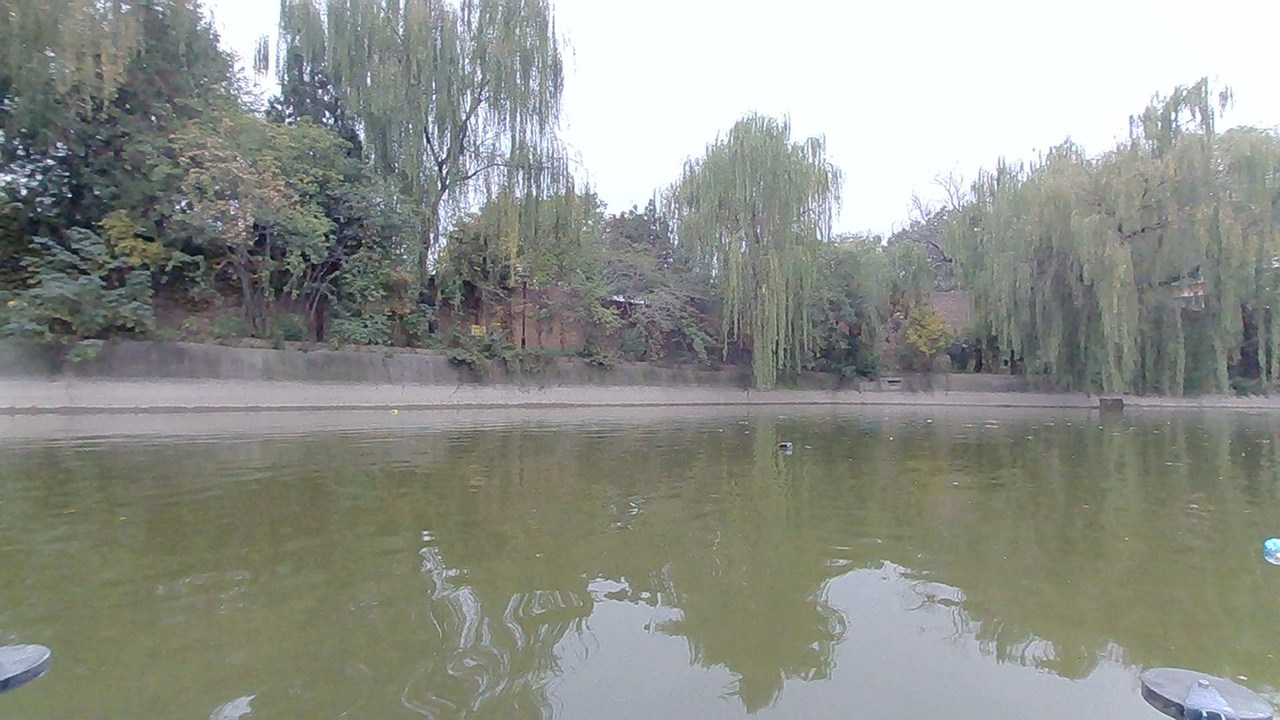bottle: (1250, 533, 1279, 576), (774, 432, 802, 458)
